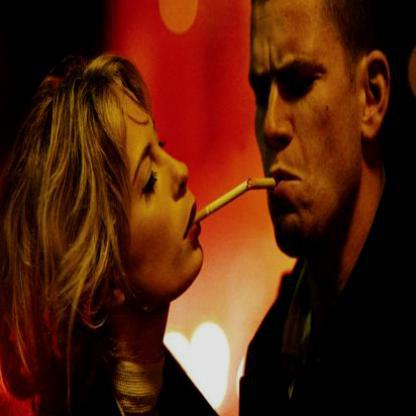cigarette: (194, 177, 249, 228), (247, 174, 278, 192)
person: (1, 56, 214, 416), (252, 0, 415, 415)
